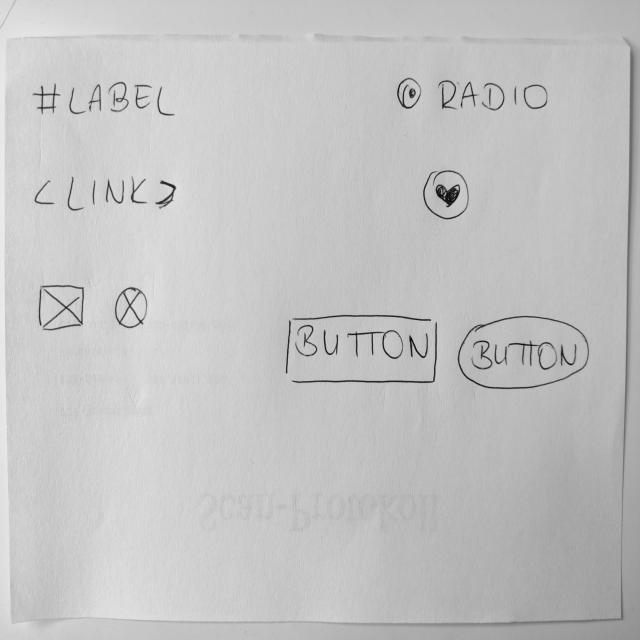button: (284, 313, 442, 387), (458, 315, 592, 393)
icon-button: (422, 168, 472, 222)
image: (38, 283, 87, 334), (115, 287, 150, 333)
label: (31, 81, 178, 122)
link: (33, 173, 179, 215)
radio: (396, 77, 552, 114)
